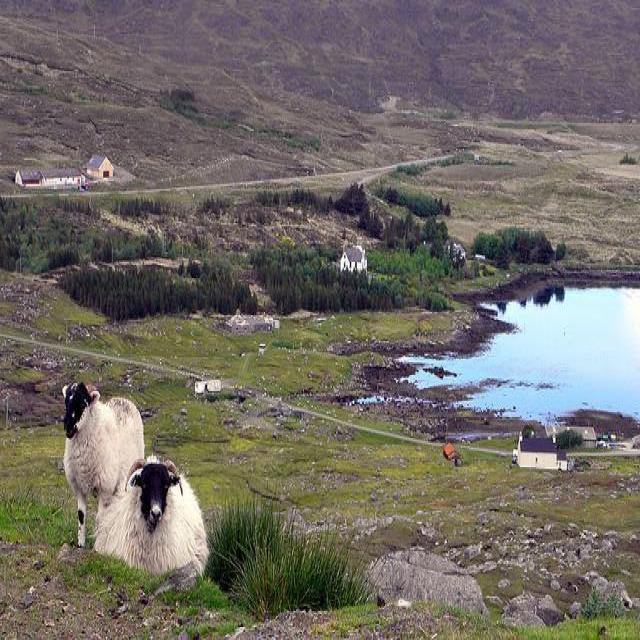Sheep: (63, 384, 210, 584)
